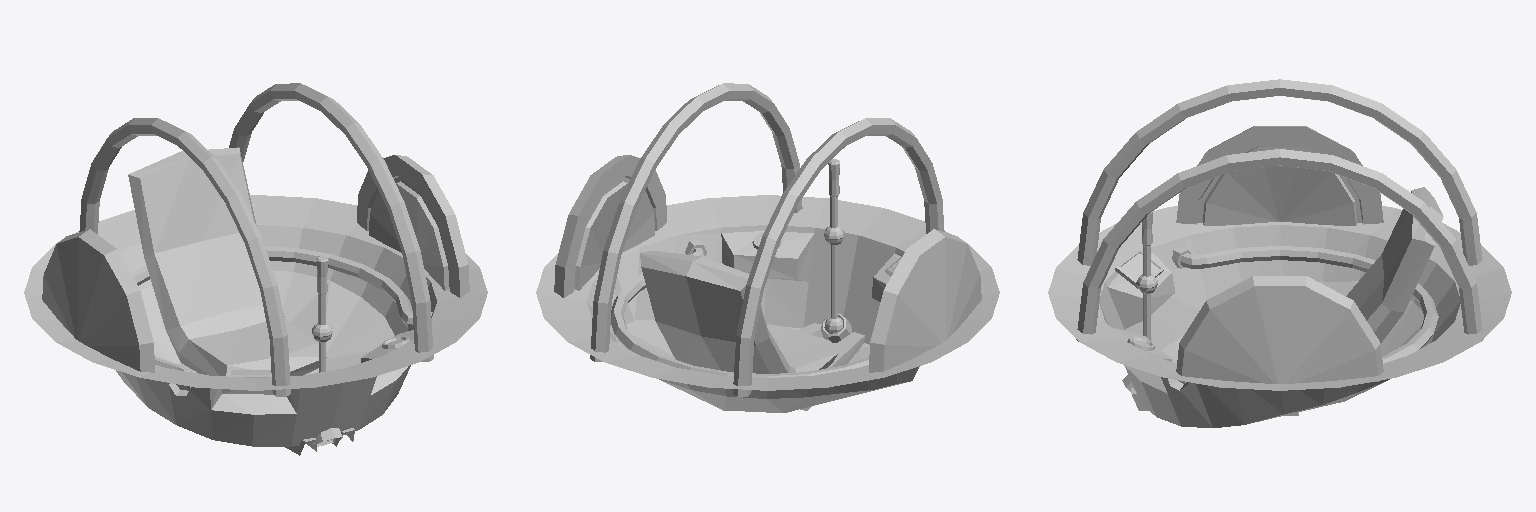
Rendered from cockpit.obj.
The picture shows the model from 3 angles: view 1: azimuth 30°, elevation 25°; view 2: azimuth 150°, elevation 25°; view 3: azimuth 270°, elevation 25°; orthographic projection.
Parts seen in each view (by area): view 1: Circle.001; view 2: Circle.001; view 3: Circle.001.
Part boxes in pixels (x1,y1,x2,y2): Circle.001: (24,83,487,455); Circle.001: (536,83,999,412); Circle.001: (1048,79,1511,427).
Bounding box in the file's own units: 4.08 × 2.76 × 4.08.